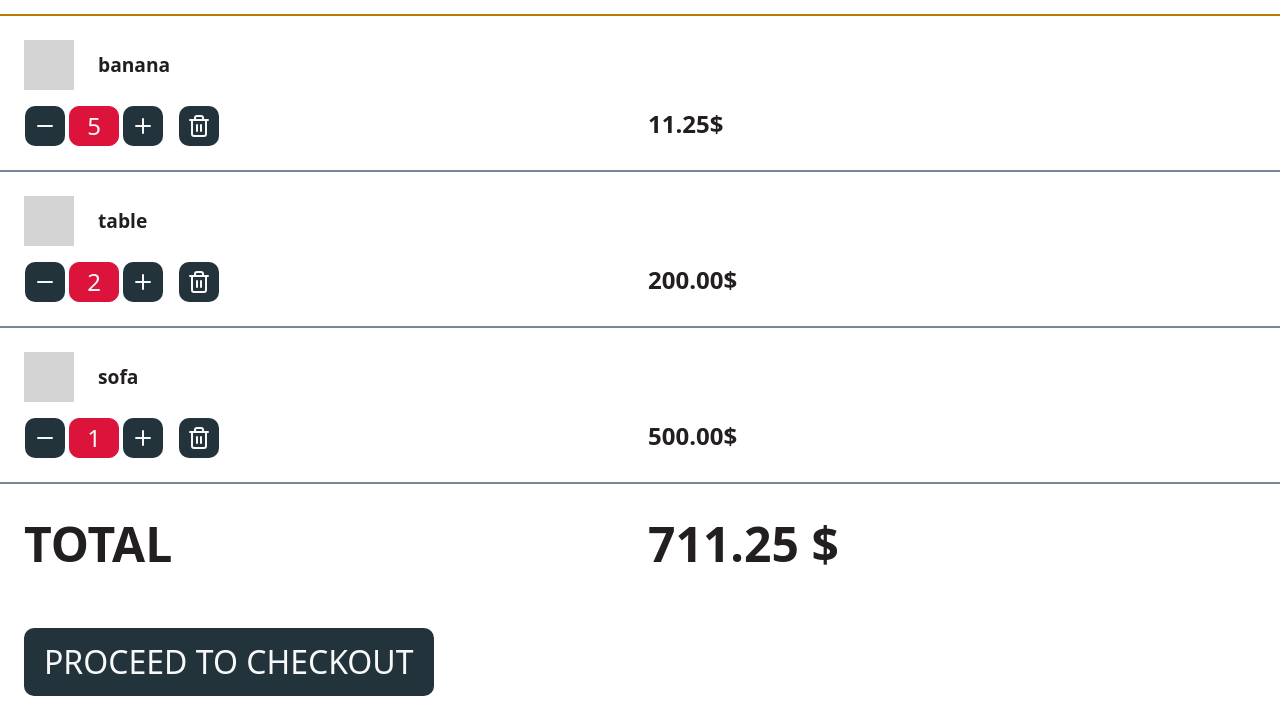
Test: OrderModal component › renders list with 3 items
(page scrolled)
Step 1. Click the button "PROCEED TO CHECKOUT" → click(229, 662), box [24, 628, 434, 696]
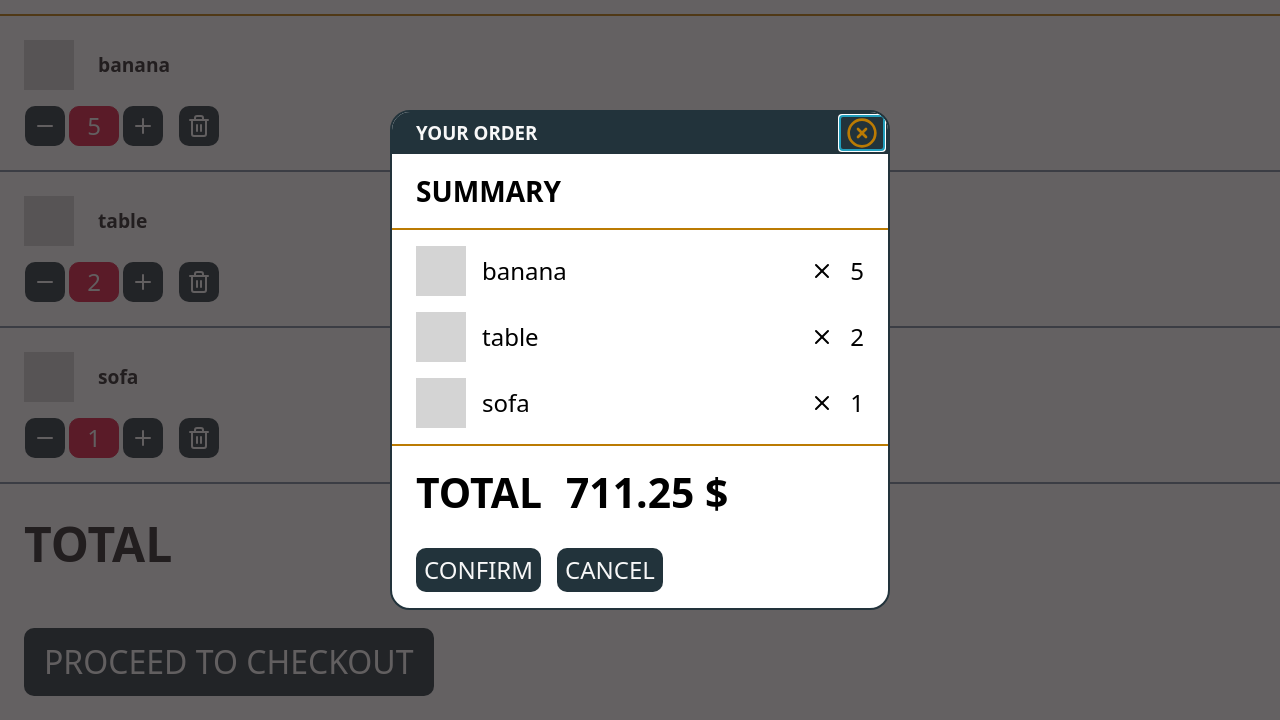
Now the list "banana 5 table 2 sofa 1" is shown, box [392, 230, 888, 444]
